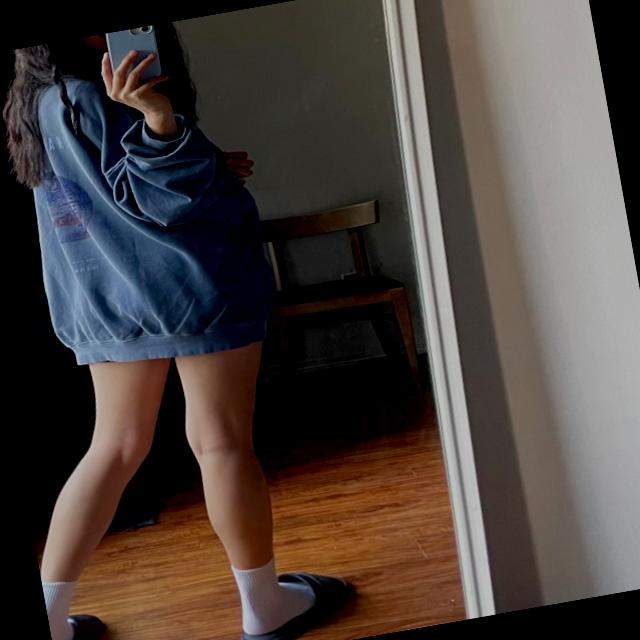mtm: (1, 38, 284, 376)
